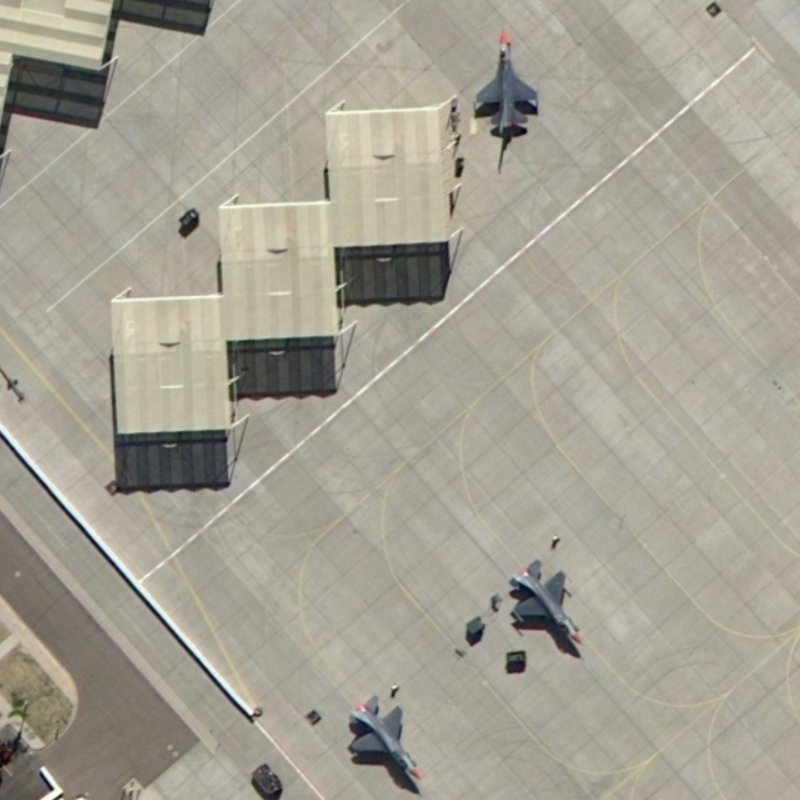A5: (466, 21, 543, 144), (504, 555, 592, 654), (340, 691, 427, 786)
